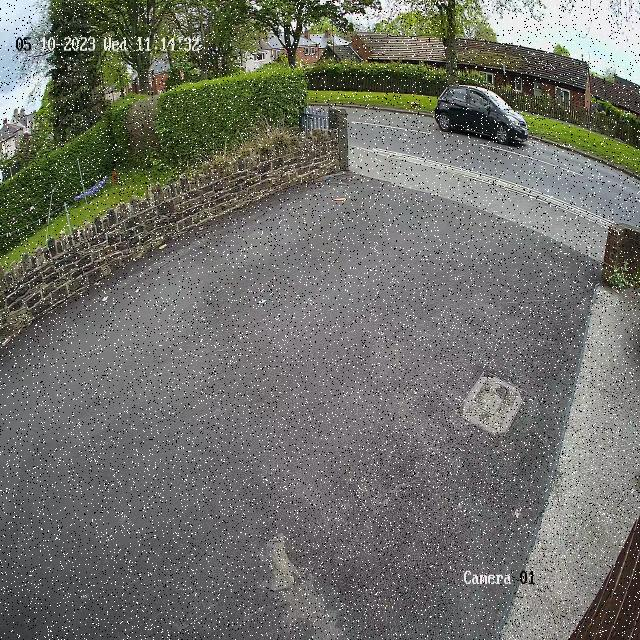vehicle: (431, 75, 534, 157)
